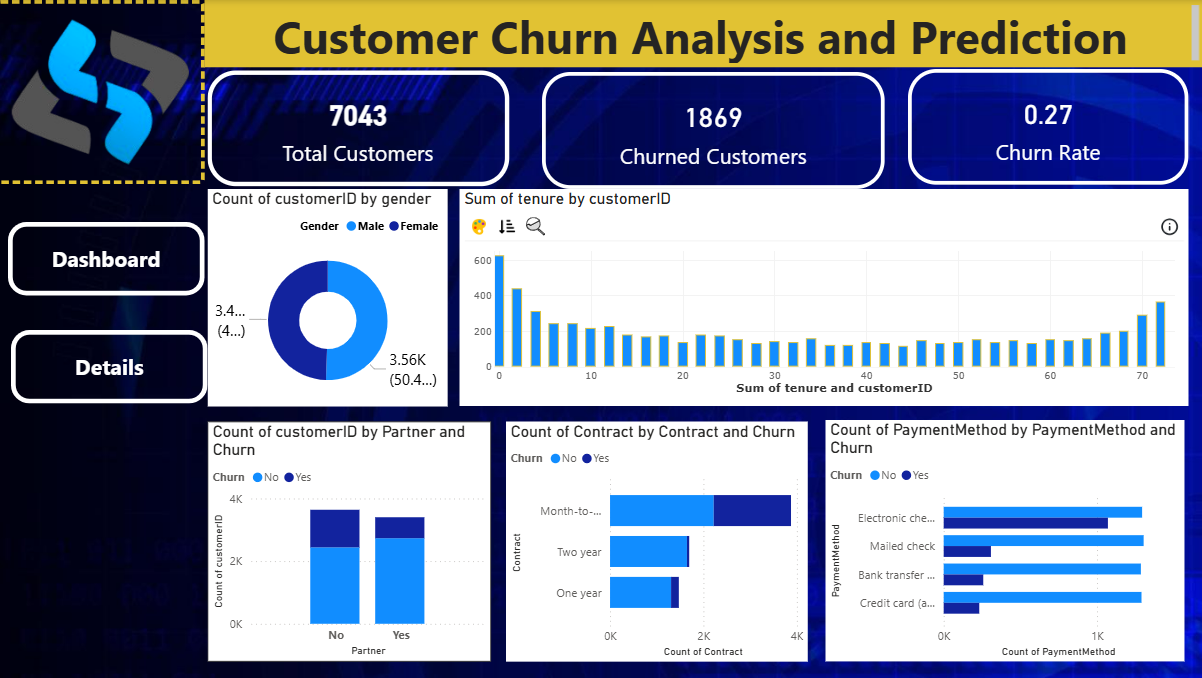

Layout of this report page (visuals, bound fields, positions):
{"tool":"powerbi","page":{"name":"Page 1","canvas":[1280,720],"ordinal":0},"visuals":[{"type":"textbox","box":[221.1,0,1059.3,71.6],"z":0},{"type":"card","fields":{"Values":["Customer_churn_analysis.Churn Rate"]},"box":[967.1,73.2,297.4,122.5],"z":0,"group":"g2"},{"type":"donutChart","fields":{"Y":["CountNonNull(Customer_churn_analysis.customerID)"],"Category":["Customer_churn_analysis.gender"]},"box":[224.3,200.5,254.5,230.6],"z":0,"group":"g1"},{"type":"image","box":[0,0,221.1,195.6],"z":1000},{"type":"group","id":"g1","title":"Group 1","box":[224.3,74.8,1040.3,626.7],"z":1000,"group":"g2"},{"type":"columnChart","fields":{"Category":["Customer_churn_analysis.Partner"],"Series":["Customer_churn_analysis.Churn"],"Y":["CountNonNull(Customer_churn_analysis.customerID)"]},"box":[224.3,447,300.9,254.5],"z":1000,"group":"g1"},{"type":"card","fields":{"Values":["Customer_churn_analysis.Total Customers"]},"box":[224.3,74.8,320.1,122.5],"z":2000,"group":"g1"},{"type":"actionButton","box":[12.7,235.4,208.4,77.9],"z":2000},{"type":"card","fields":{"Values":["Customer_churn_analysis.Churned Customers"]},"box":[579.6,76.4,363.3,124.1],"z":3000,"group":"g1"},{"type":"actionButton","box":[15.9,349.9,208.4,77.9],"z":3000},{"type":"group","id":"g2","title":"Group 2","box":[224.3,73.2,1040.3,628.3],"z":4000},{"type":"barChart","fields":{"Category":["Customer_churn_analysis.Contract"],"Y":["CountNonNull(Customer_churn_analysis.Contract)"],"Series":["Customer_churn_analysis.Churn"]},"box":[541.2,447,320.1,254.5],"z":4000,"group":"g1"},{"type":"clusteredBarChart","fields":{"Y":["CountNonNull(Customer_churn_analysis.PaymentMethod)"],"Series":["Customer_churn_analysis.Churn"],"Category":["Customer_churn_analysis.PaymentMethod"]},"box":[878.9,445.4,380.9,256.1],"z":5000,"group":"g1"},{"type":"histogramF963F133BA02A0B35D286F09F80E9C78","fields":{"col_2":["Sum(Customer_churn_analysis.tenure)"],"col_4":["Customer_churn_analysis.customerID"]},"box":[491.6,200.5,773,229],"z":6000,"group":"g1"}]}

Visuals, with their boxes in screenshot pixels (x1, y1, x2, y2), scaled from the page's 1280x720 canvas onto the 1202x678 screenshot:
textbox: detection(208, 0, 1201, 67)
card - Customer_churn_analysis.Churn Rate: detection(908, 69, 1187, 184)
donutChart - CountNonNull(Customer_churn_analysis.customerID) x Customer_churn_analysis.gender: detection(211, 189, 450, 406)
image: detection(0, 0, 208, 184)
"Group 1" group: detection(211, 70, 1188, 661)
columnChart - Customer_churn_analysis.Partner x Customer_churn_analysis.Churn: detection(211, 421, 493, 661)
card - Customer_churn_analysis.Total Customers: detection(211, 70, 511, 186)
actionButton: detection(12, 222, 208, 295)
card - Customer_churn_analysis.Churned Customers: detection(544, 72, 885, 189)
actionButton: detection(15, 329, 211, 403)
"Group 2" group: detection(211, 69, 1188, 661)
barChart - Customer_churn_analysis.Contract x CountNonNull(Customer_churn_analysis.Contract): detection(508, 421, 809, 661)
clusteredBarChart - CountNonNull(Customer_churn_analysis.PaymentMethod) x Customer_churn_analysis.Churn: detection(825, 419, 1183, 661)
histogramF963F133BA02A0B35D286F09F80E9C78 - Sum(Customer_churn_analysis.tenure) x Customer_churn_analysis.customerID: detection(462, 189, 1188, 404)
